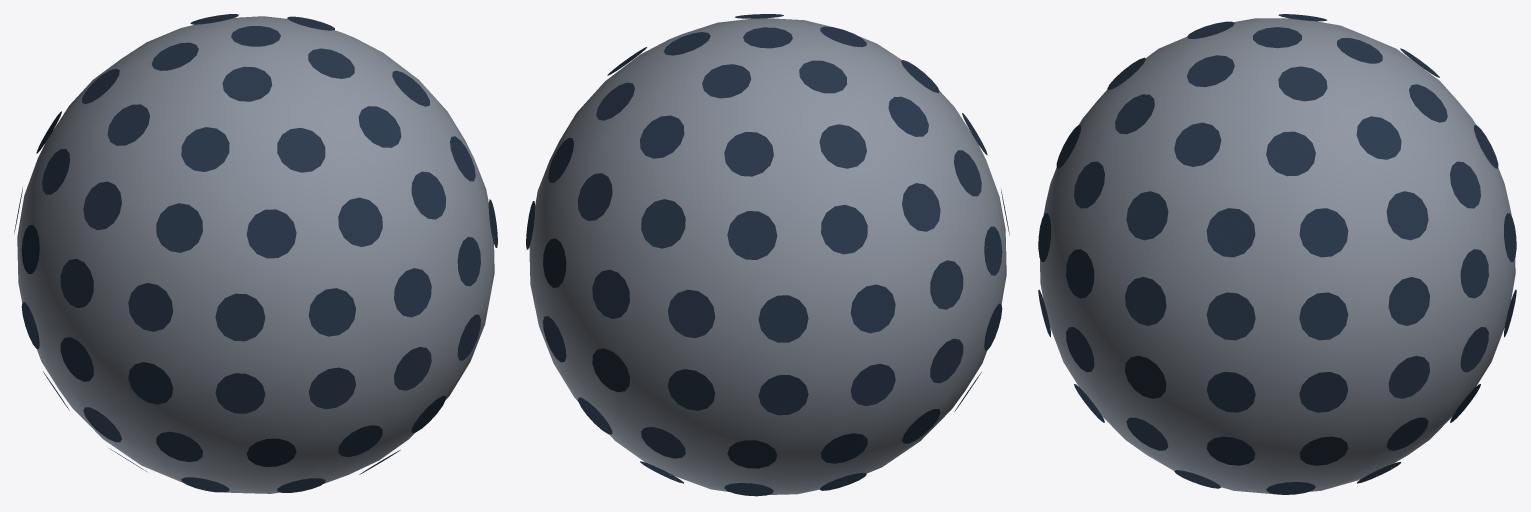
File: lares.glb
3 views of the same model, side by side, from view 1: azimuth 30°, elevation 25°; view 2: azimuth 150°, elevation 25°; view 3: azimuth 270°, elevation 25° (orthographic).
Parts seen in each view (by area): view 1: body, solar-panel; view 2: body, solar-panel; view 3: body, solar-panel.
Part boxes in pixels (bbox=[...]): body: bbox=[17, 16, 494, 493]; solar-panel: bbox=[14, 14, 497, 492]; body: bbox=[529, 18, 1006, 494]; solar-panel: bbox=[526, 14, 1009, 496]; body: bbox=[1040, 18, 1515, 494]; solar-panel: bbox=[1038, 14, 1516, 494].
Size of the model in its own units: 0.3642 by 0.367 by 0.3642.
